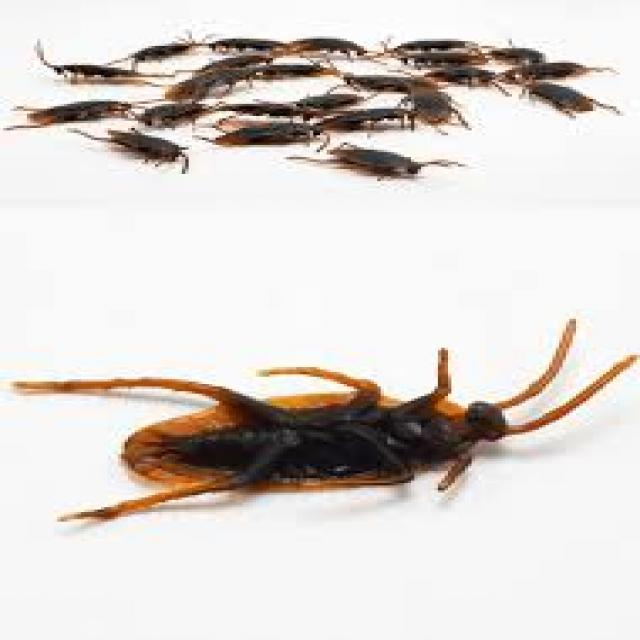Cockroach: (14, 312, 640, 551)
